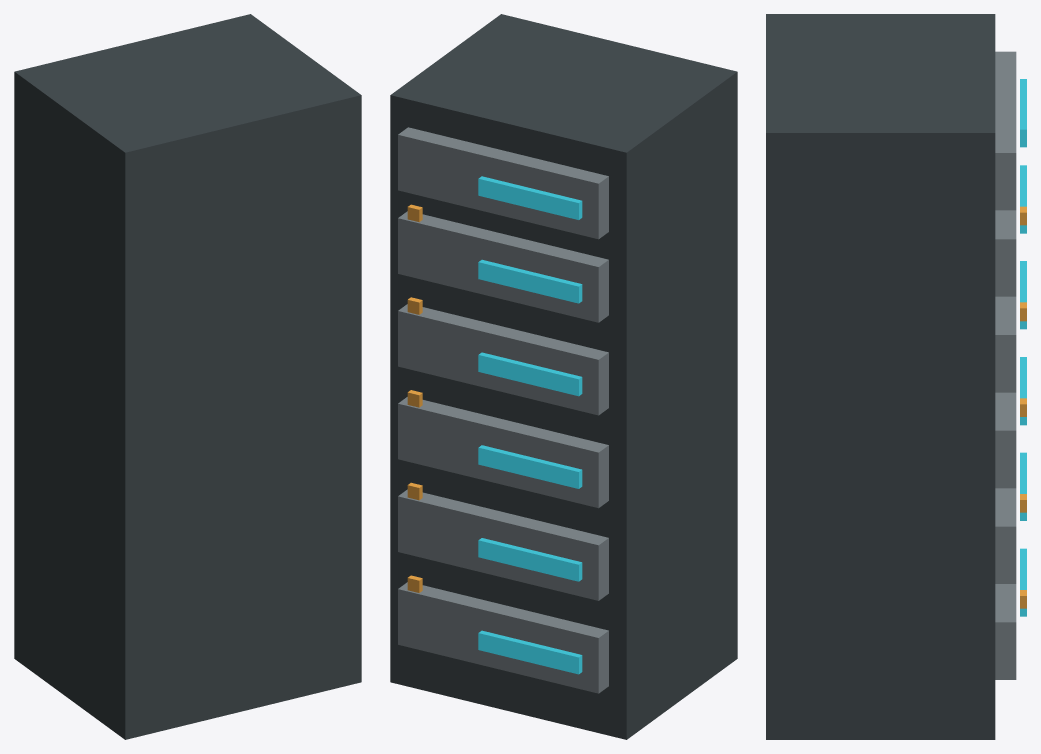
Rendered from gravifire_equipment_rack.glb.
3 renders of one model, left to right at view 1: azimuth 30°, elevation 25°; view 2: azimuth 150°, elevation 25°; view 3: azimuth 270°, elevation 25°, orthographic. The views are drawn at different scales.
Visible parts, largest first — view 1: rack_shell; view 2: rack_shell, tray_1.72, tray_0.25, tray_0.55, tray_1.45, tray_0.85, tray_1.15, display_1.45, display_0.25, display_0.85, display_1.15, display_1.72 (+1 smaller); view 3: rack_shell, tray_1.72, tray_1.15, tray_0.85, tray_0.25, tray_0.55, tray_1.45, display_1.72.
Boxes of the visible parts, <box> form: rack_shell: <box>14,14,361,739</box>; rack_shell: <box>390,14,737,739</box>; tray_1.72: <box>398,127,608,239</box>; tray_0.25: <box>398,582,608,693</box>; tray_0.55: <box>398,489,608,600</box>; tray_1.45: <box>398,211,608,322</box>; tray_0.85: <box>398,397,608,508</box>; tray_1.15: <box>398,304,608,415</box>; display_1.45: <box>478,259,582,303</box>; display_0.25: <box>478,630,582,674</box>; display_0.85: <box>478,445,582,488</box>; display_1.15: <box>478,352,582,396</box>; display_1.72: <box>478,176,582,219</box>; rack_shell: <box>766,14,995,739</box>; tray_1.72: <box>995,51,1016,210</box>; tray_1.15: <box>995,296,1016,392</box>; tray_0.85: <box>995,392,1016,488</box>; tray_0.25: <box>995,584,1016,679</box>; tray_0.55: <box>995,488,1016,583</box>; tray_1.45: <box>995,210,1016,296</box>; display_1.72: <box>1020,79,1026,147</box>.
Size of the model in its own units: 0.8 by 1.9 by 0.74.
